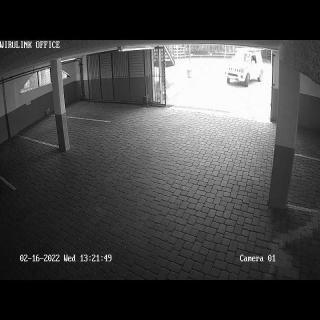car: (226, 48, 264, 86)
